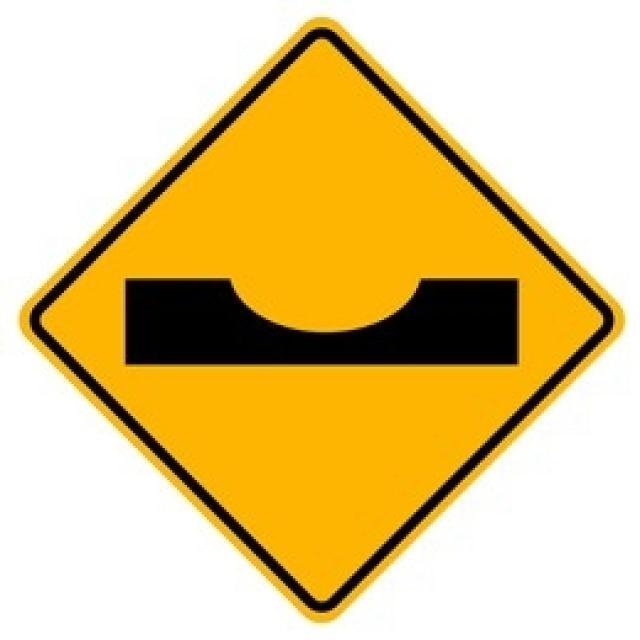dangerous dip: (29, 26, 612, 612)
